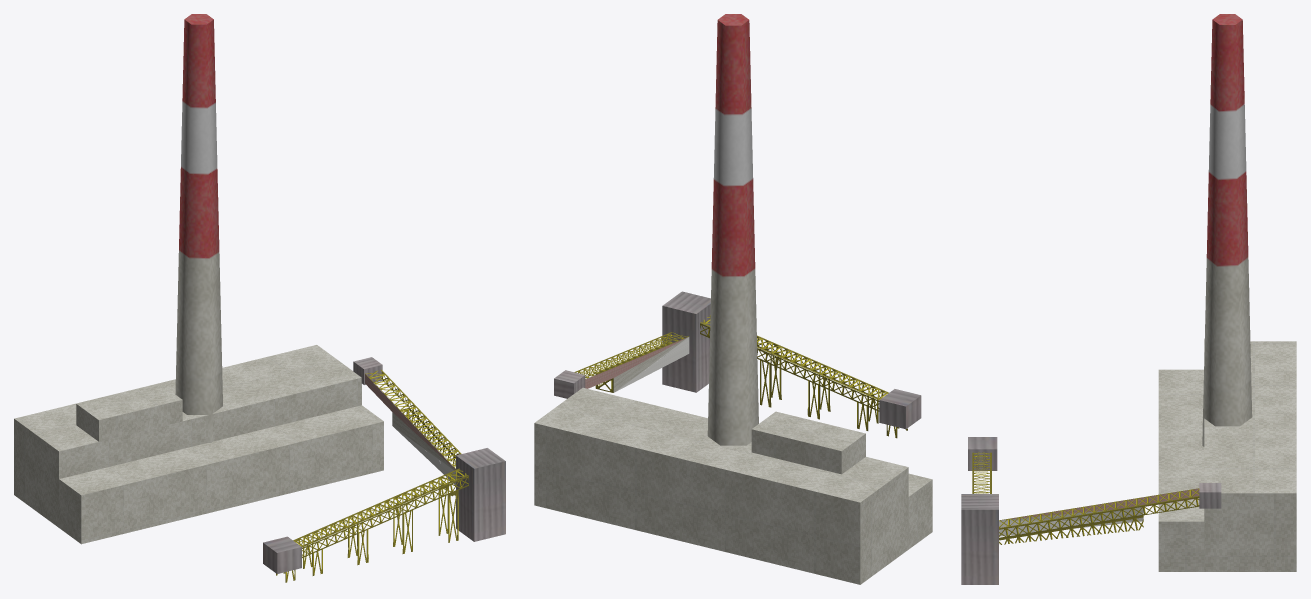
The model's file is Ravenswood.fbx.
The picture shows the model from 3 angles, left to right: view 1: azimuth 30°, elevation 25°; view 2: azimuth 150°, elevation 25°; view 3: azimuth 270°, elevation 25°; orthographic projection. The views are drawn at different scales.
Parts seen in each view (by area): view 1: Плоскость.001, Окружность; view 2: Плоскость.001, Окружность; view 3: Плоскость.001, Окружность.
Part boxes in pixels (x1,y1,x2,y2): Плоскость.001: (14, 345, 505, 582); Окружность: (175, 14, 222, 442); Плоскость.001: (534, 291, 932, 584); Окружность: (707, 14, 758, 445); Плоскость.001: (961, 339, 1296, 584); Окружность: (1202, 14, 1252, 446).
Bounding box in the file's own units: 565 × 761 × 486.
Materials: 2 (2 with a texture image).
